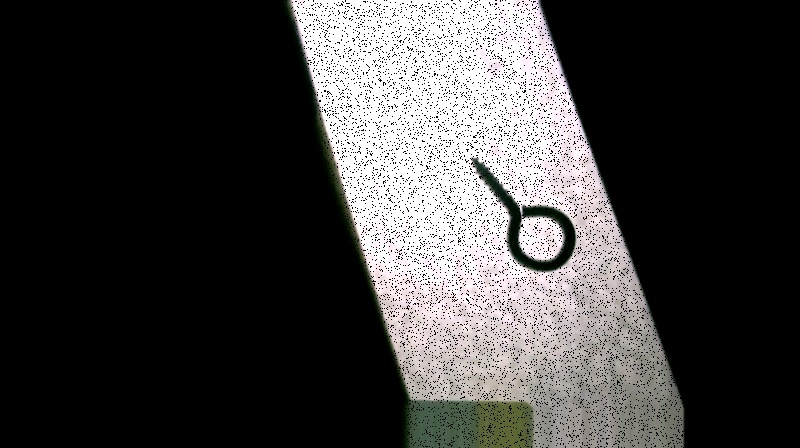O001: (468, 154, 580, 276)
